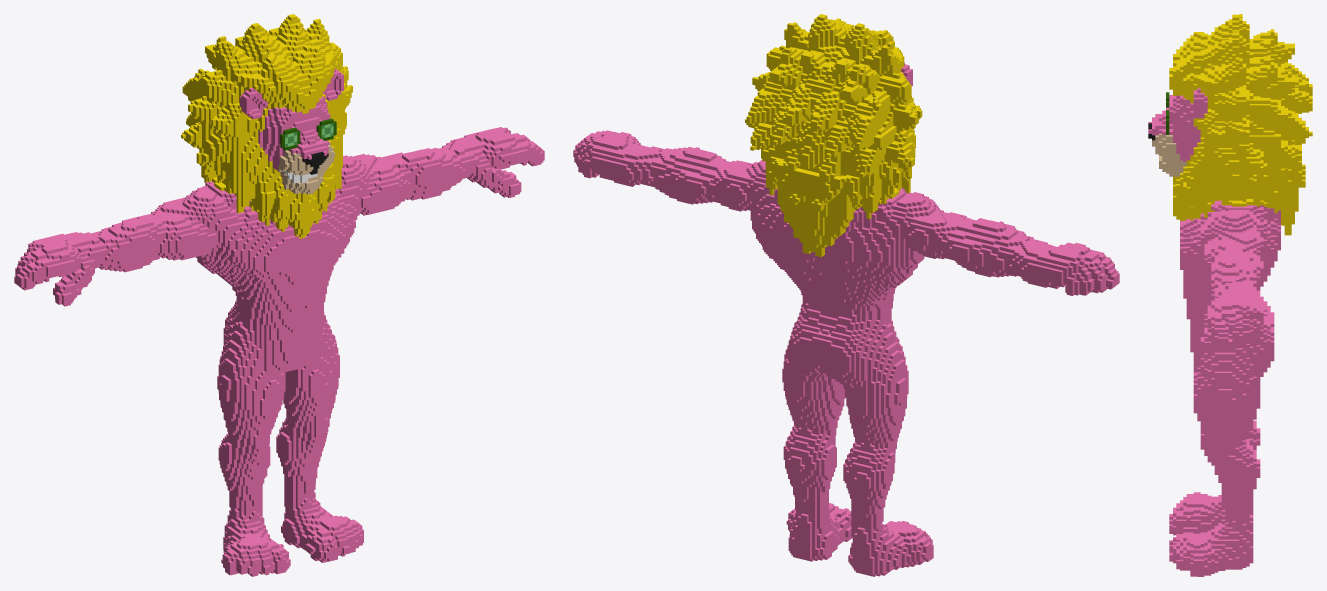
3 views of the same model, side by side, from view 1: azimuth 30°, elevation 25°; view 2: azimuth 150°, elevation 25°; view 3: azimuth 270°, elevation 25° (orthographic). The views are drawn at different scales.
Parts seen in each view (by area): view 1: grin; view 2: grin; view 3: grin.
Part boxes in pixels (x1,y1,x2,y2): grin: (14,14,544,576); grin: (573,14,1119,576); grin: (1148,14,1312,576).
Bounding box in the file's own units: 17.2 × 16.5 × 4.7.
4 materials, 4 textured.
